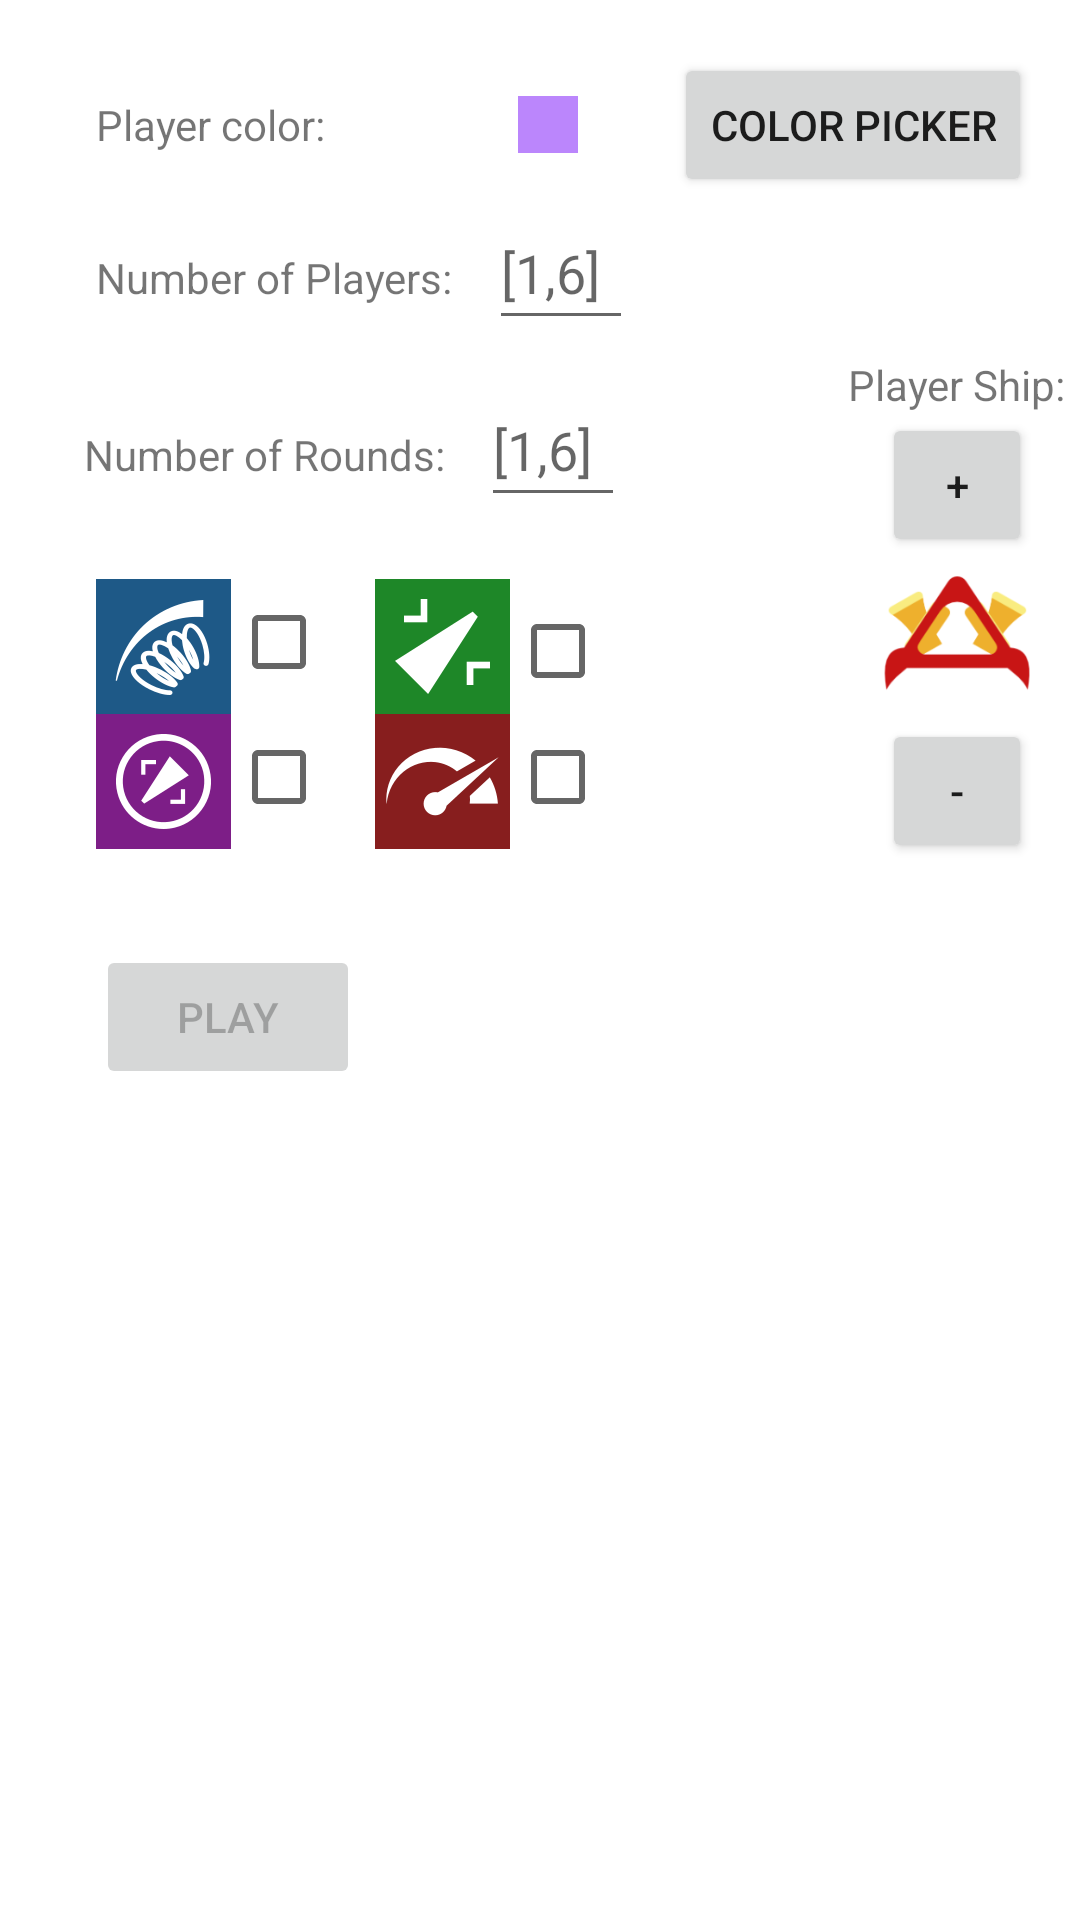

Icons on this 1080px x 1920px Android screen, each with the point to tap as point (x, y):
powerup jump: point (163, 646)
powerup speed up: point (442, 781)
powerup thick down: point (442, 646)
powerup thick up: point (163, 781)
